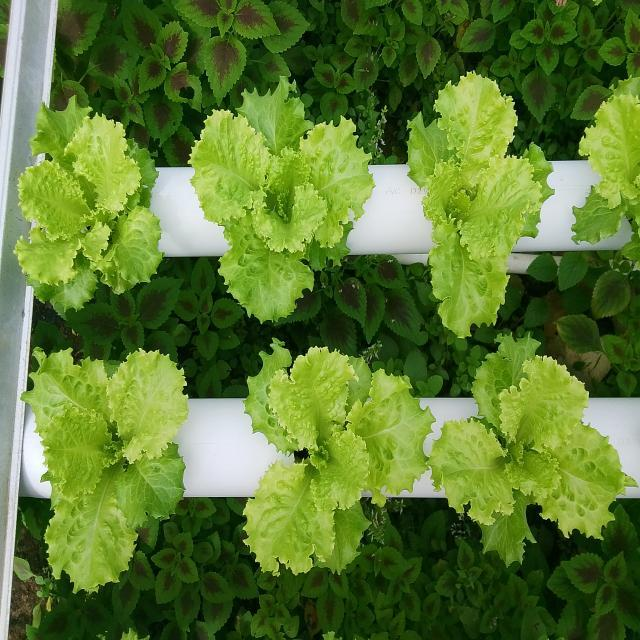Baby: (424, 335, 635, 564), (244, 338, 435, 587), (189, 78, 375, 322), (21, 348, 189, 591), (408, 72, 554, 336), (14, 96, 162, 314)
